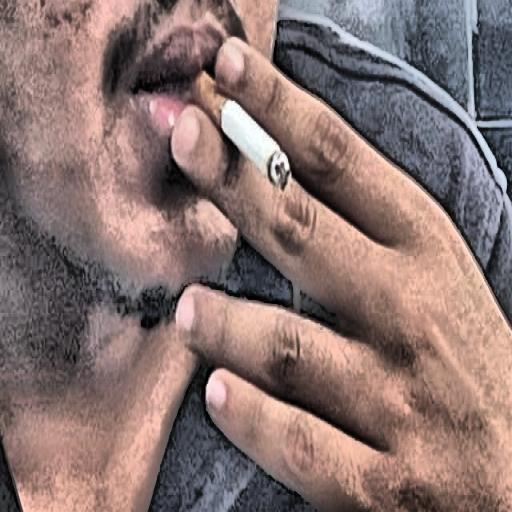Merokok: (192, 71, 290, 189)
Rokok: (0, 0, 512, 512)
